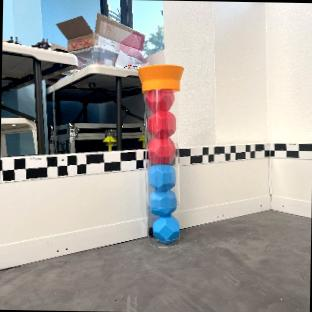V5_BLUE: (151, 214, 177, 242), (148, 189, 177, 214), (147, 164, 175, 189)
V5_RED: (145, 108, 176, 136), (147, 136, 174, 163), (144, 88, 174, 111)
